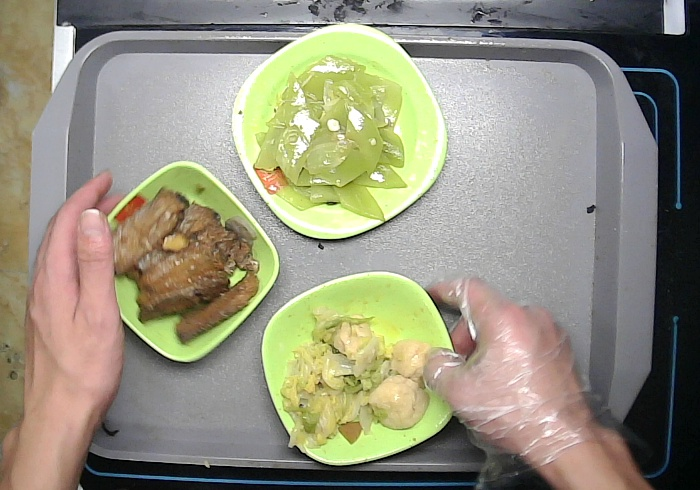SHKJ-Lv_Se_Cai_Die: (260, 268, 462, 467)
SHKJ-Lv_Se_Si_Fang_Cai_Die: (230, 21, 449, 242)
SHKJ-Lv_Se_Xiao_Fang_Die: (99, 158, 279, 366)
